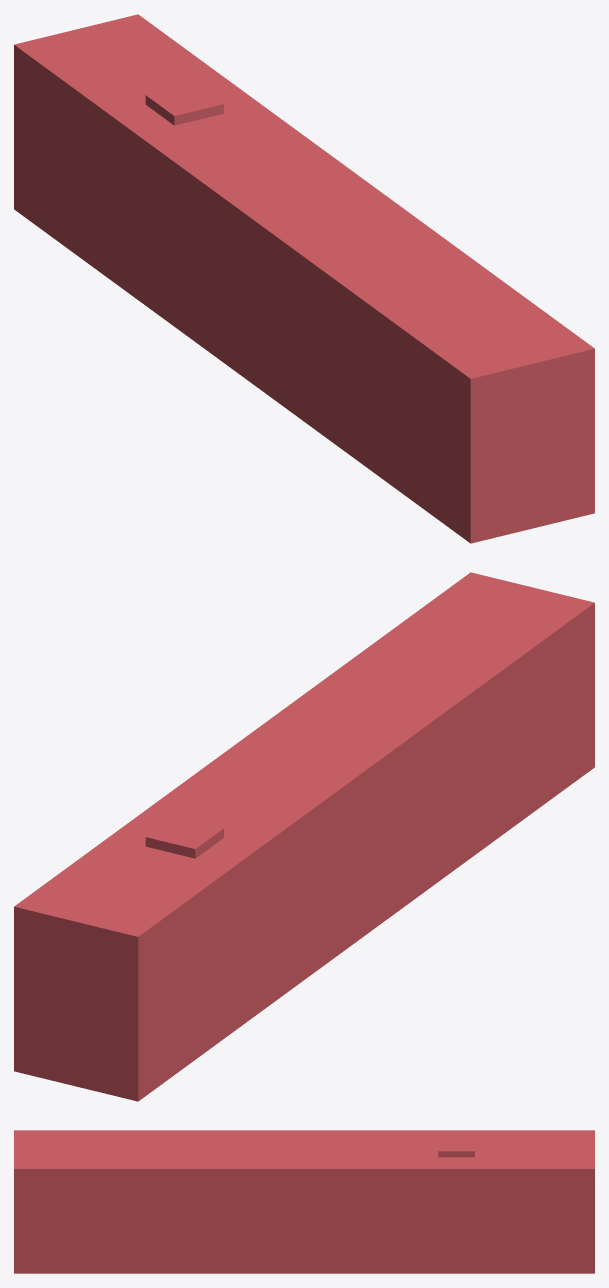
3 views of the same model, one above another, from view 1: azimuth 30°, elevation 25°; view 2: azimuth 150°, elevation 25°; view 3: azimuth 270°, elevation 25° (orthographic). The views are drawn at different scales.
Parts seen in each view (by area): view 1: body_LOD0, pant_front; view 2: body_LOD0, pant_front; view 3: body_LOD0, pant_front.
Boxes of the visible parts, left/top/right/bottom form: body_LOD0: left=14, top=14, right=594, bottom=543; pant_front: left=145, top=83, right=223, bottom=125; body_LOD0: left=14, top=572, right=594, bottom=1101; pant_front: left=145, top=816, right=223, bottom=858; body_LOD0: left=14, top=1130, right=594, bottom=1273; pant_front: left=438, top=1136, right=474, bottom=1157.
Size of what is drawn, in the model's own units: 3 by 4.02 by 19.1.
